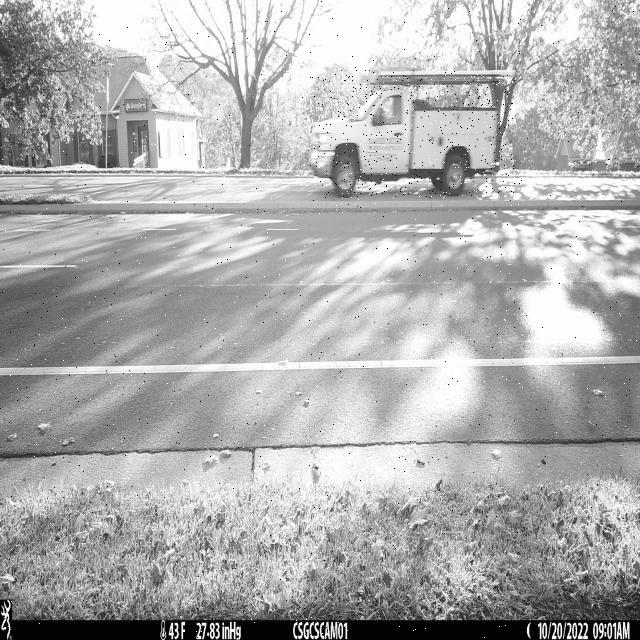Pickup- Utility: (310, 70, 516, 198)
